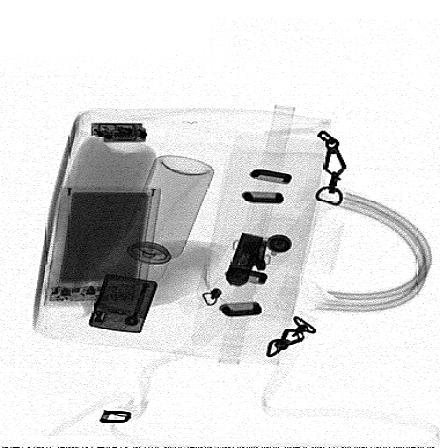Lighter: (87, 274, 158, 333)
Powerbank: (44, 185, 163, 306)
Sprayer: (119, 154, 216, 286)
